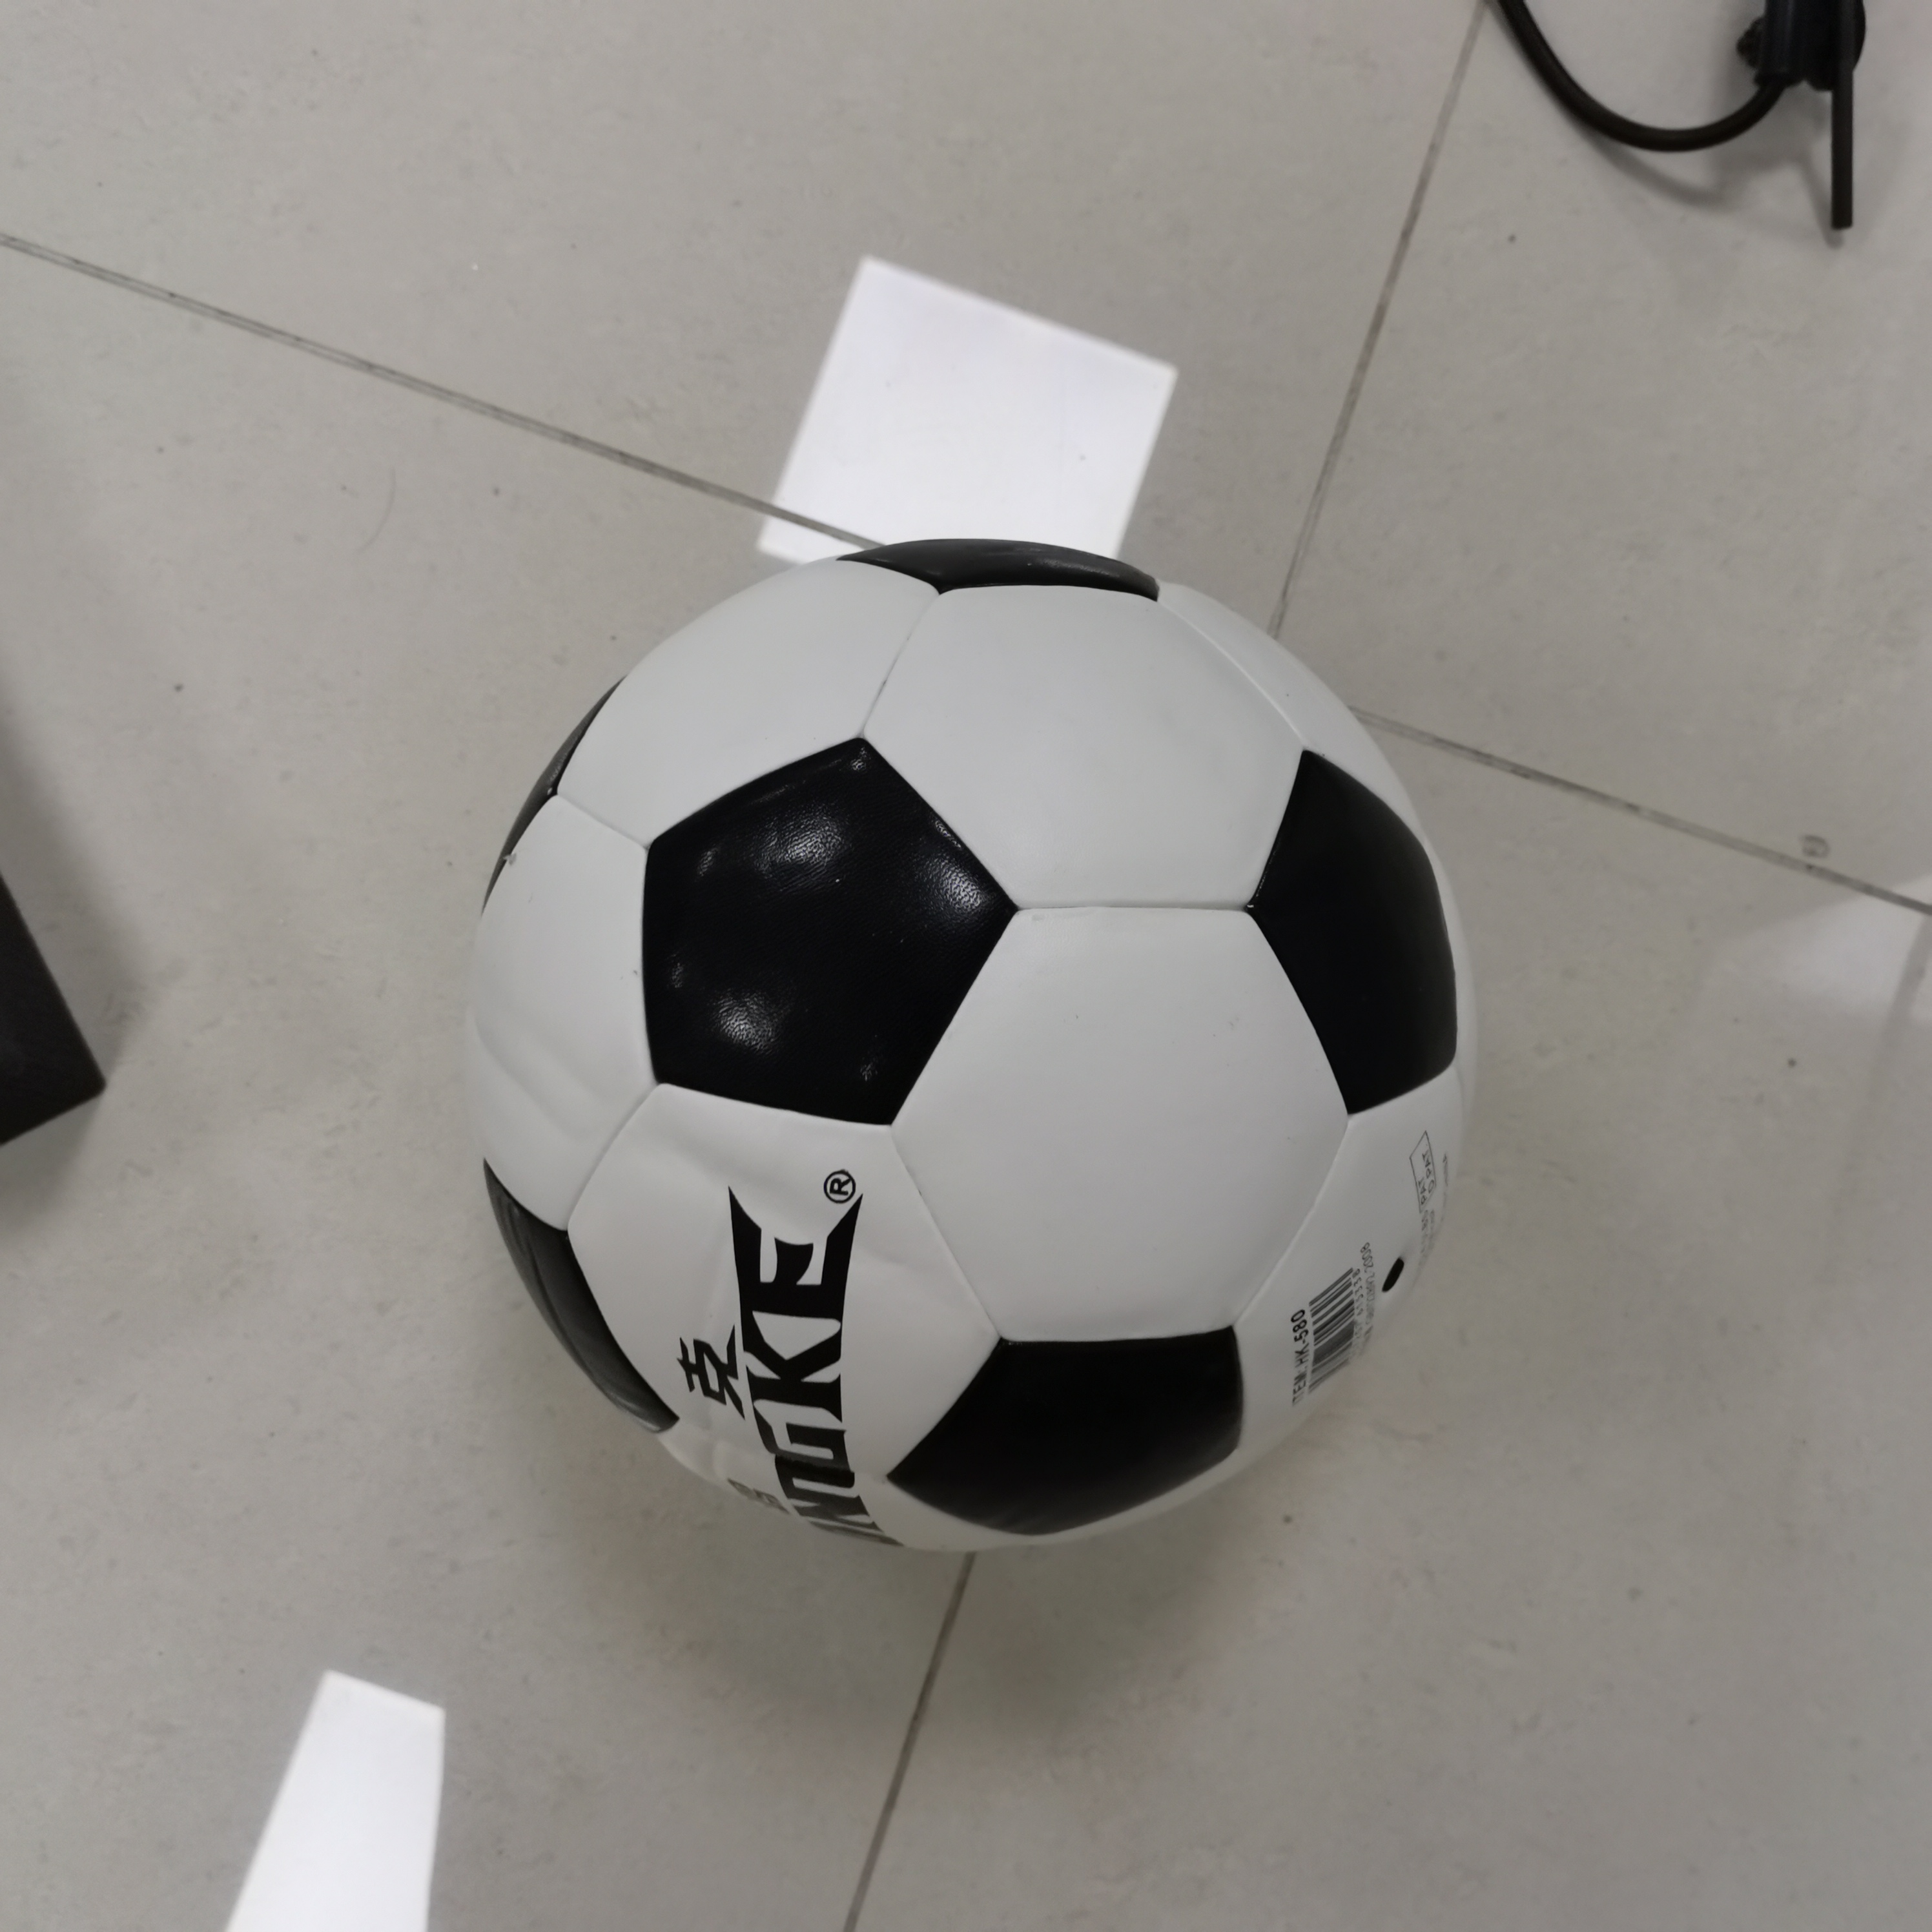football: (467, 543, 1474, 1559)
